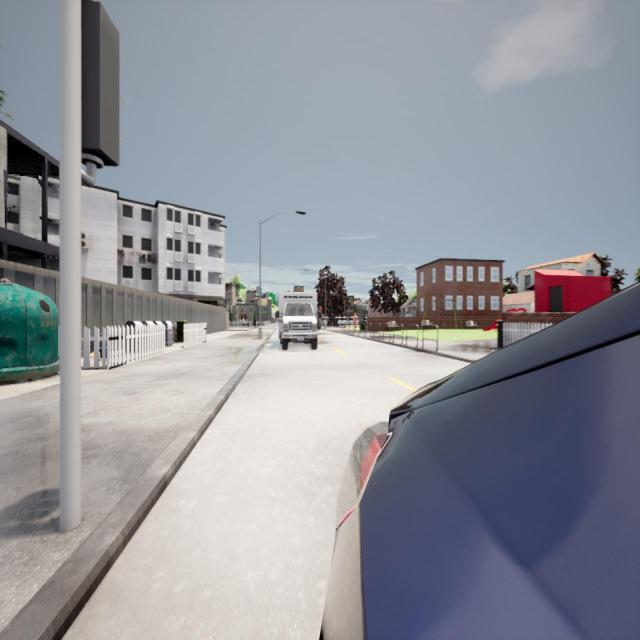Pedestrian: (318, 304, 323, 331), (352, 309, 358, 330)
Vehicle: (320, 284, 639, 640), (276, 286, 318, 350)
traffic_light: (80, 0, 120, 166)
